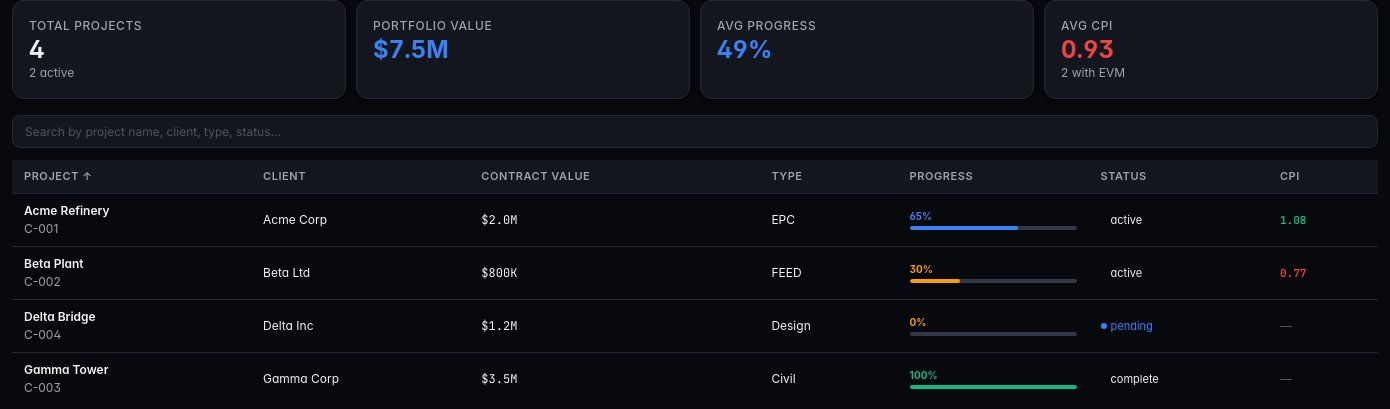
Test case: ProjectsView — search › shows "No projects found" when no match
Step 1. Type "zzz-no-match" into the search field → coordinates (695, 132), box [12, 115, 1378, 148]
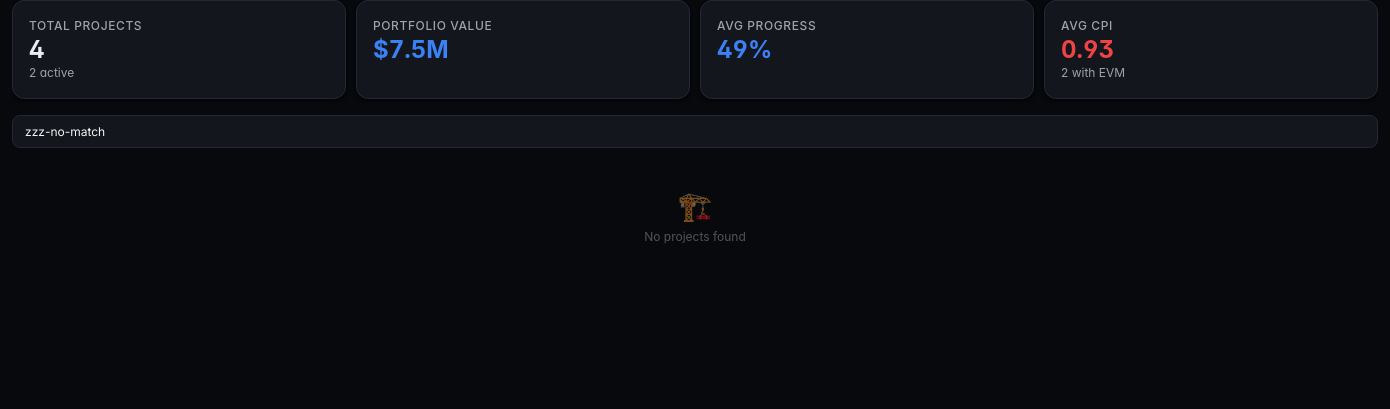
Expected: the text "No projects found" is shown, [644, 228, 746, 246]
